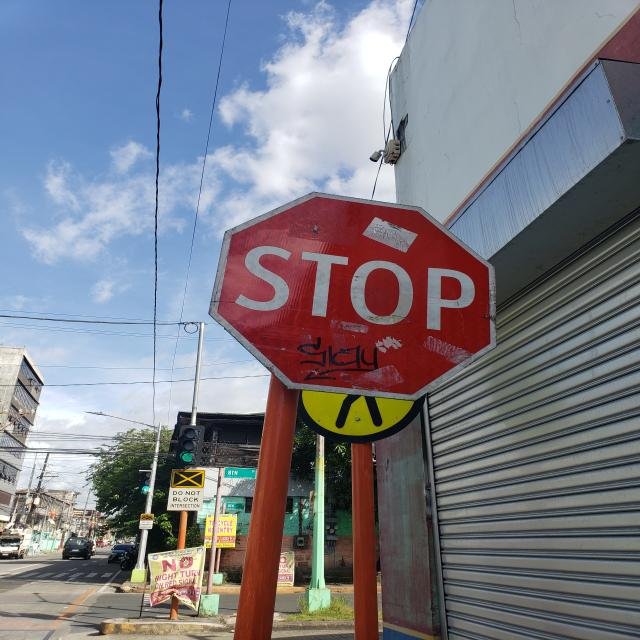stop-sign: (208, 190, 496, 402)
